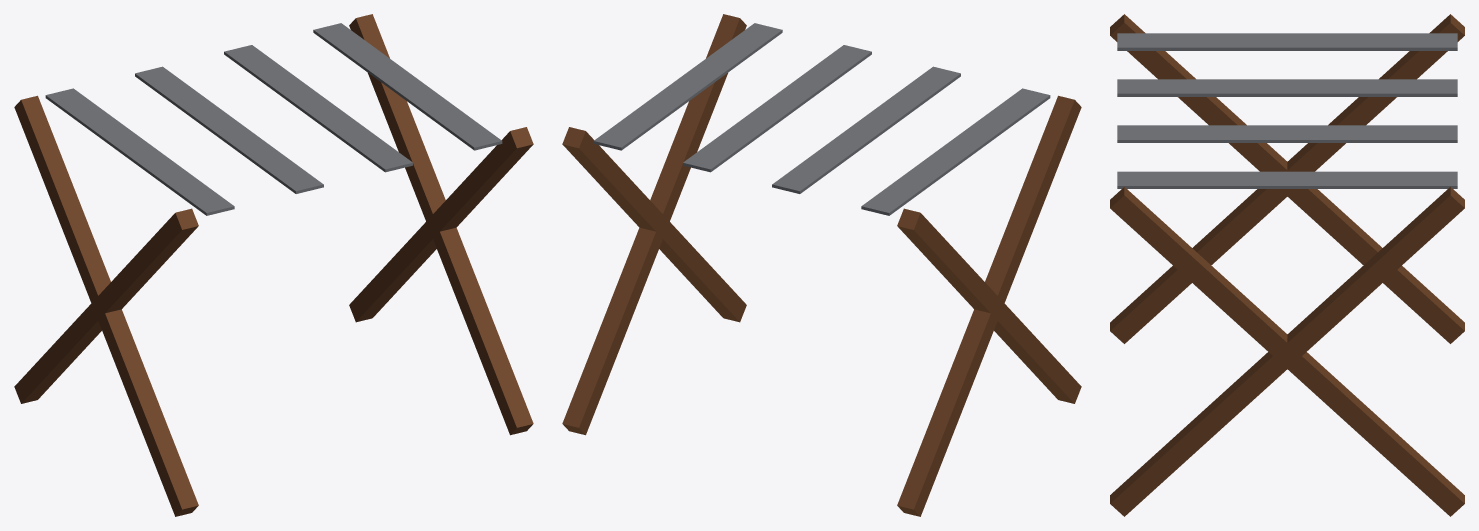
Rendered from hospitality.room.luggage_rack.glb.
3 renders of one model, left to right at view 1: azimuth 30°, elevation 25°; view 2: azimuth 150°, elevation 25°; view 3: azimuth 270°, elevation 25°, orthographic. The views are drawn at different scales.
Parts seen in each view (by area): view 1: main__hardwood, main__fabric_grey; view 2: main__hardwood, main__fabric_grey; view 3: main__hardwood, main__fabric_grey.
Boxes of the visible parts, x1=… form: main__hardwood: x1=14, y1=14, x2=533, y2=516; main__fabric_grey: x1=45, y1=23, x2=502, y2=215; main__hardwood: x1=562, y1=14, x2=1081, y2=516; main__fabric_grey: x1=593, y1=23, x2=1050, y2=215; main__hardwood: x1=1110, y1=14, x2=1464, y2=516; main__fabric_grey: x1=1117, y1=33, x2=1457, y2=188.
Size of the model in its own units: 0.63 by 0.5212 by 0.5212.
